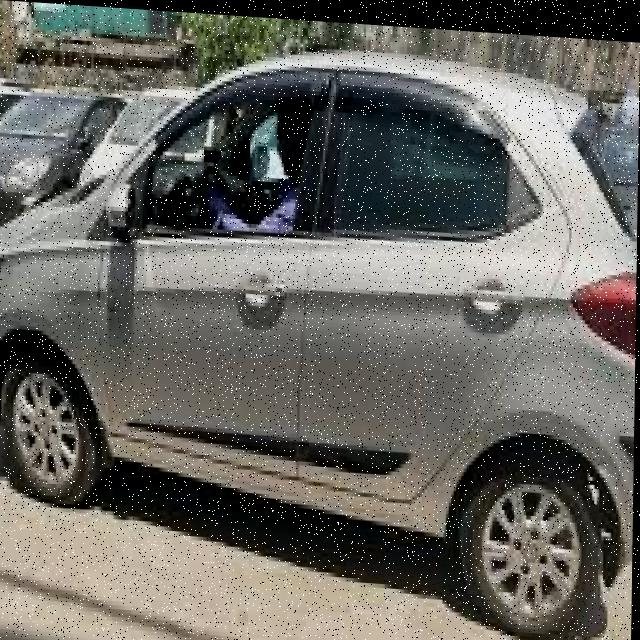car: (0, 51, 639, 596)
